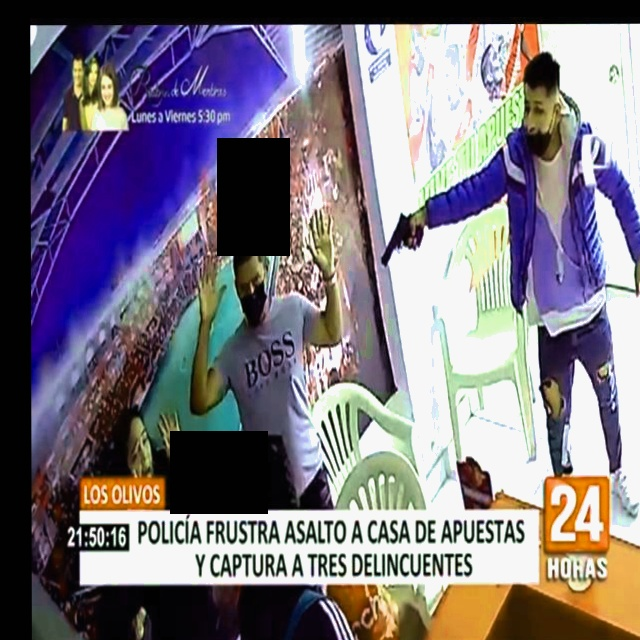gun: (376, 187, 425, 284)
